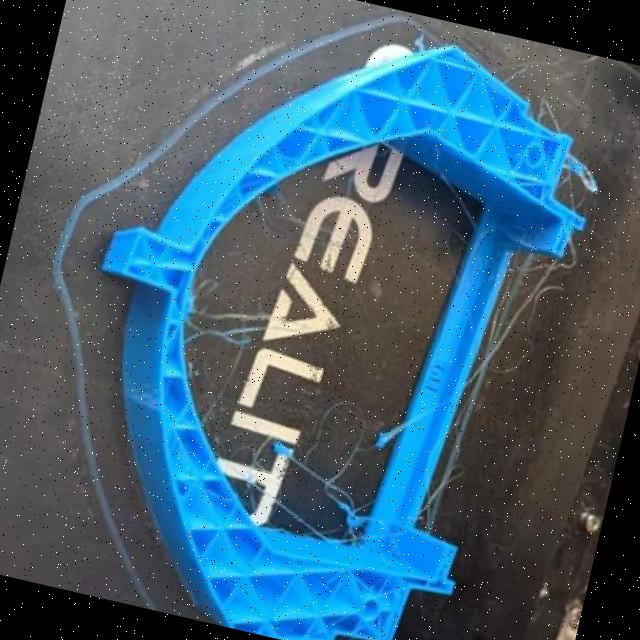stringing: (371, 250, 577, 457), (261, 429, 358, 510), (186, 300, 261, 354), (411, 458, 469, 527), (332, 495, 380, 548)
